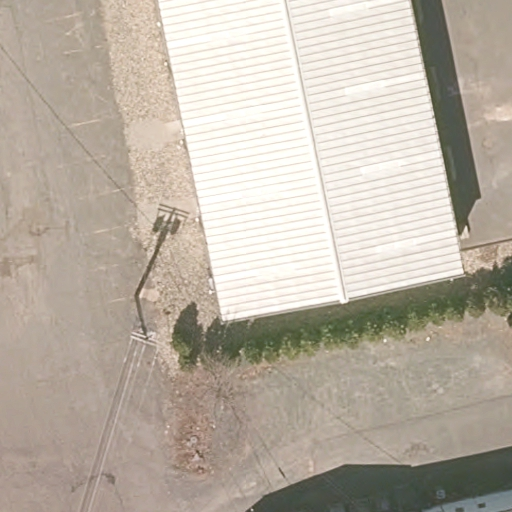DT: (129, 296, 162, 348)
